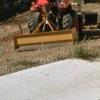Tractor: (22, 1, 89, 43)
